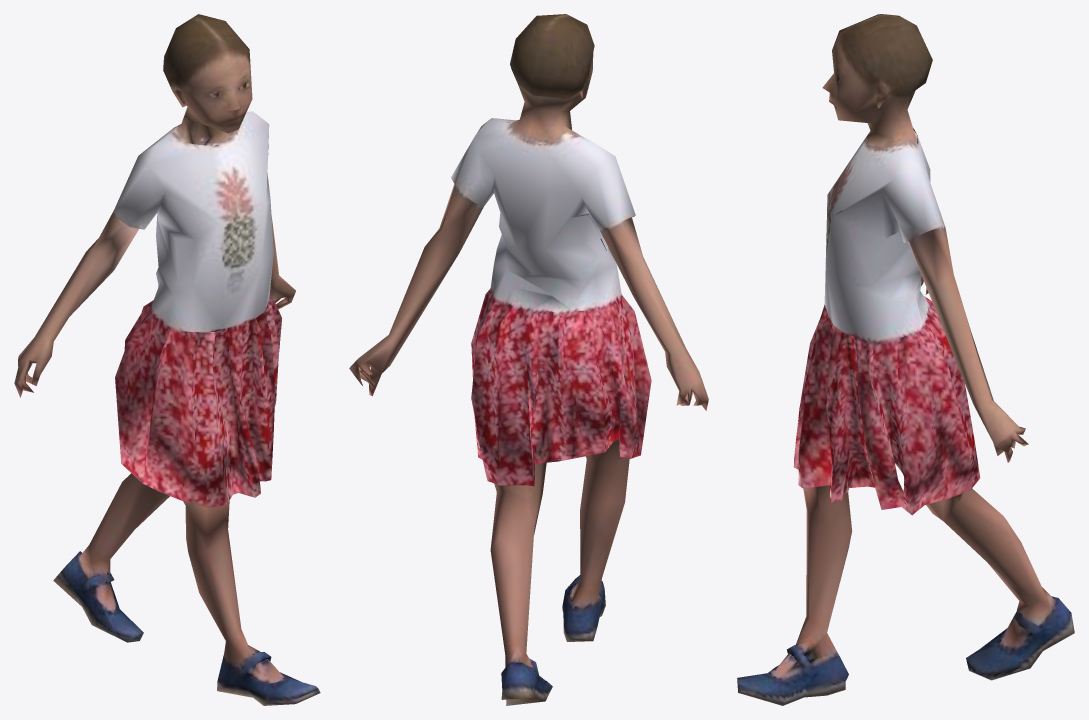
The model's file is girl.glb.
The picture shows the model from 3 angles, left to right: view 1: azimuth 30°, elevation 25°; view 2: azimuth 150°, elevation 25°; view 3: azimuth 270°, elevation 25°; orthographic projection. The views are drawn at different scales.
Parts seen in each view (by area): view 1: Mesh_0; view 2: Mesh_0; view 3: Mesh_0.
Part boxes in pixels (left/top/right/bottom): Mesh_0: left=14, top=14, right=320, bottom=705; Mesh_0: left=349, top=14, right=708, bottom=705; Mesh_0: left=737, top=14, right=1074, bottom=705.
Size of the model in its own units: 0.9754 by 1.9 by 0.8648.
1 material, 1 textured.
